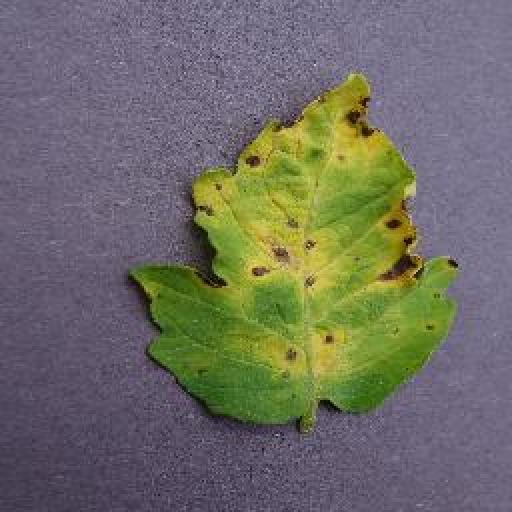disease_tomato: (122, 67, 461, 425)
